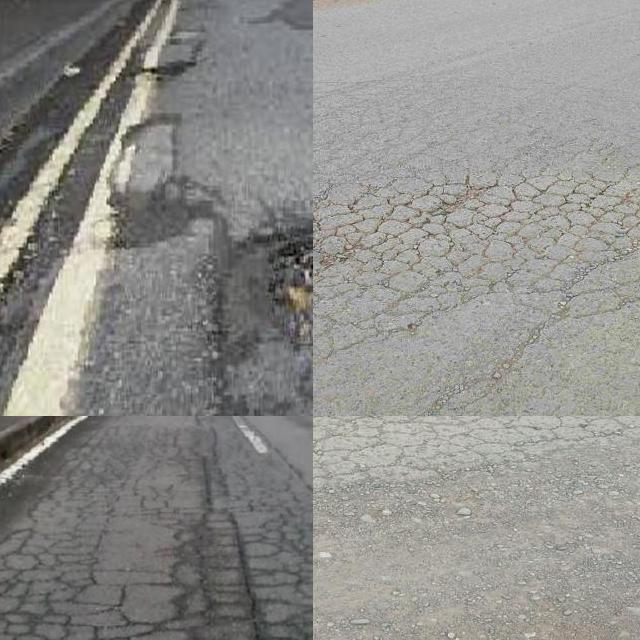Lubang: (259, 240, 313, 347)
Retak Buaya: (0, 421, 313, 640), (313, 165, 640, 315), (313, 416, 640, 488)
